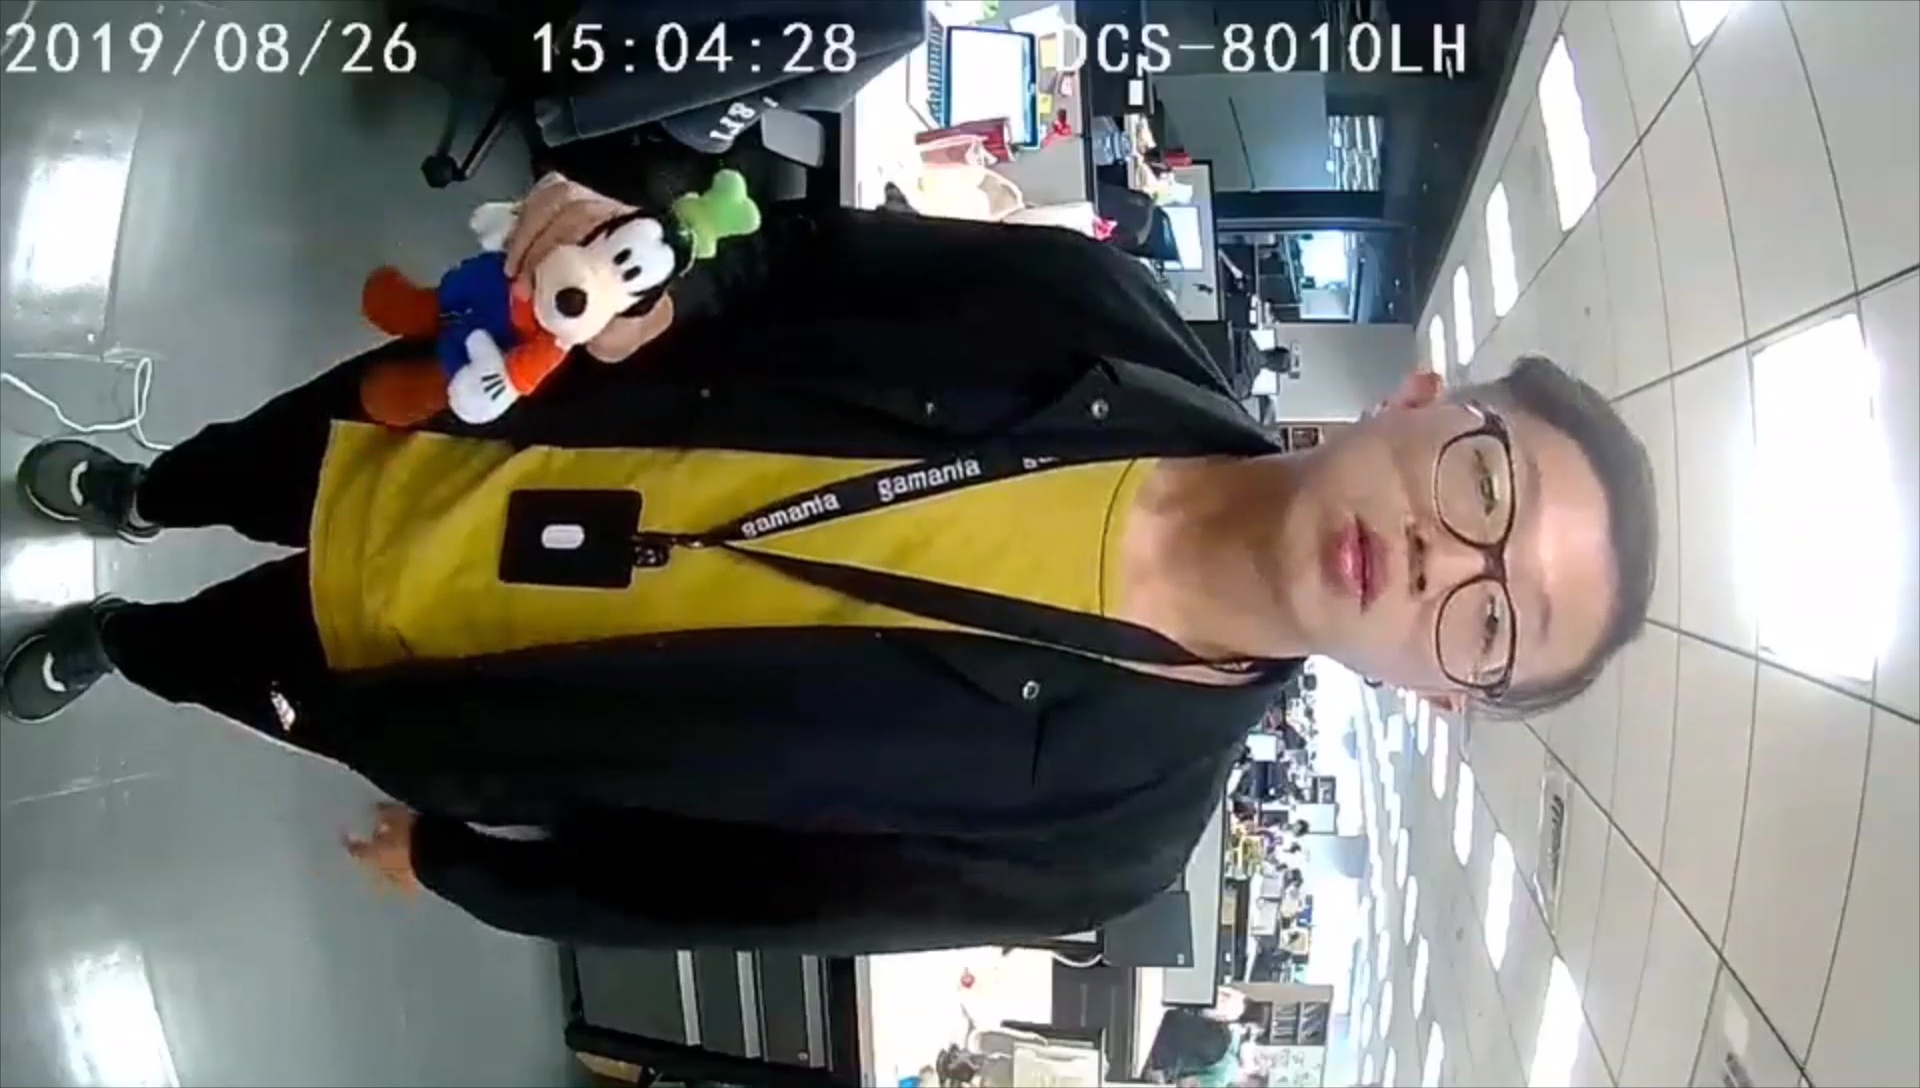goofy: (353, 170, 764, 439)
